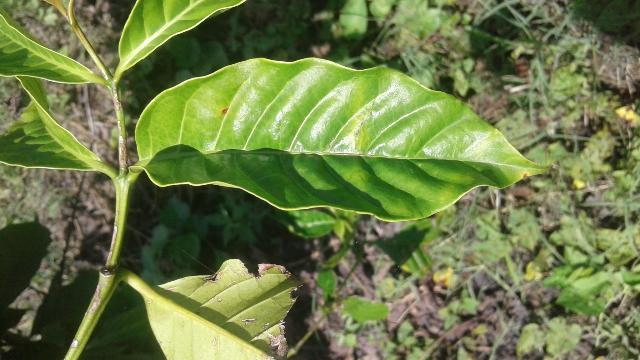rust_level_1: (125, 53, 568, 223)
